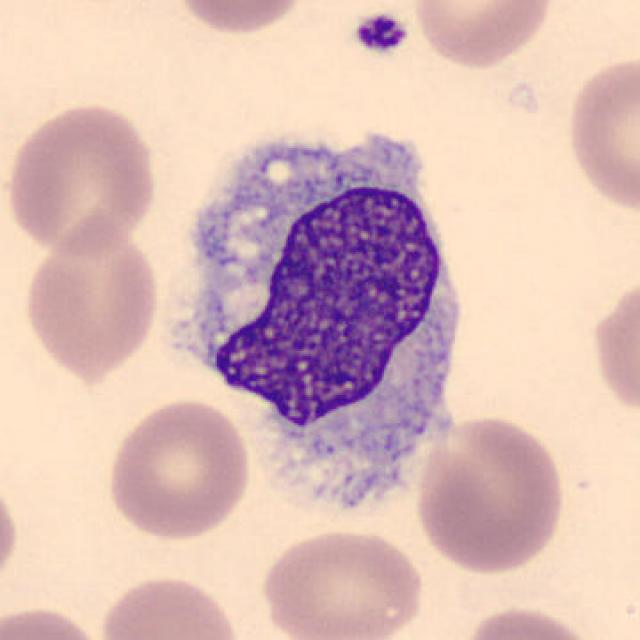Monocyte: (154, 104, 482, 522)
Platelets: (350, 9, 412, 56)
RBC: (409, 411, 571, 576), (3, 99, 162, 257), (20, 217, 164, 382), (103, 395, 254, 543), (255, 523, 428, 640), (560, 49, 638, 219), (408, 0, 556, 72), (94, 571, 246, 640), (586, 266, 640, 423), (454, 603, 604, 640), (167, 0, 315, 37), (0, 601, 110, 640), (0, 469, 23, 601)
